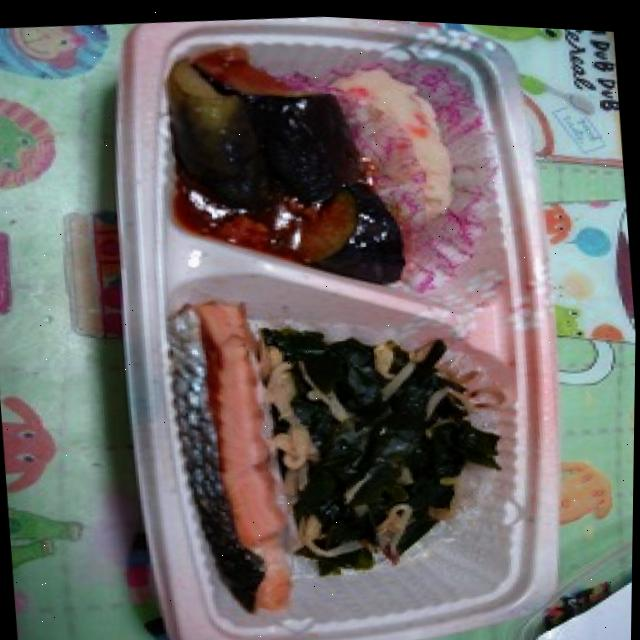熟制海鲜: (165, 283, 317, 630)
